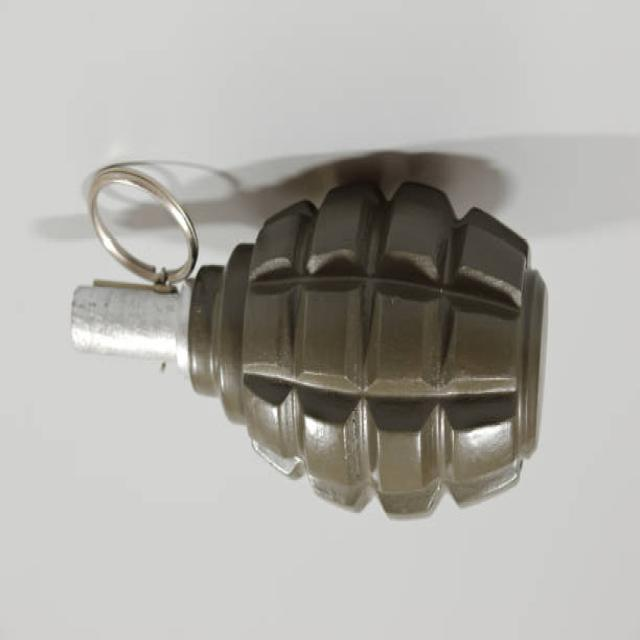grenade: (66, 158, 554, 524)
